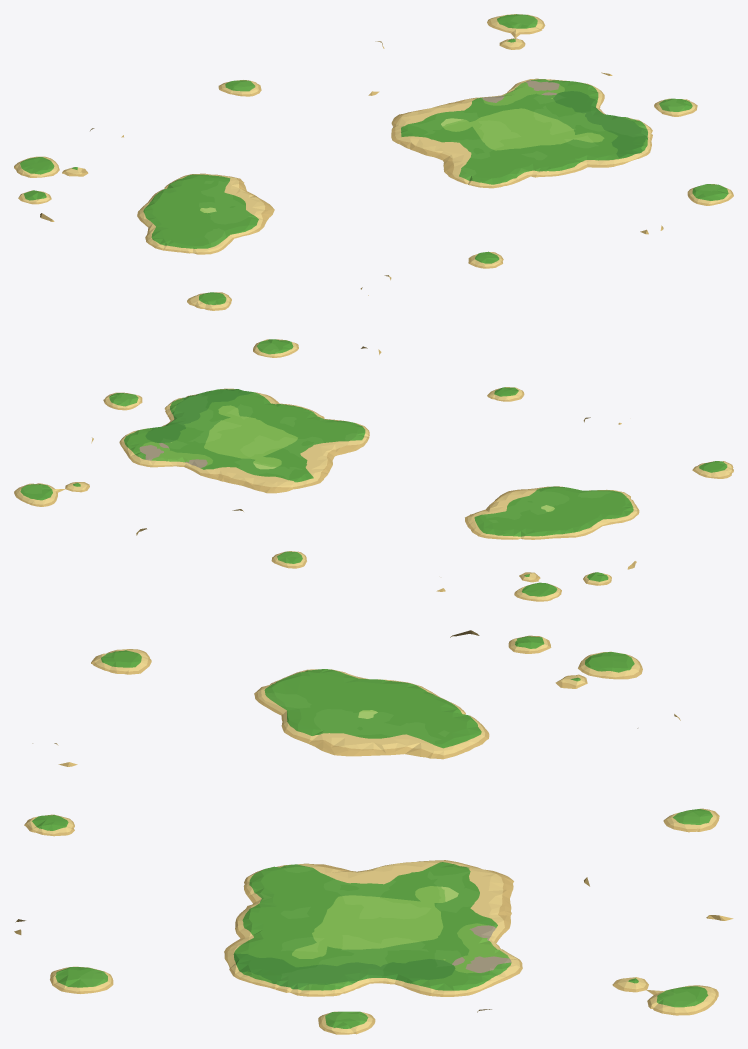
Rendered from Isl-tutorial1-Ground.fbx.
3 views of the same model, one above another, from view 1: azimuth 30°, elevation 25°; view 2: azimuth 150°, elevation 25°; view 3: azimuth 270°, elevation 25° (orthographic). The views are drawn at different scales.
Parts seen in each view (by area): view 1: Isl-tutorial1-Ground-c21, Isl-tutorial1-Ground-c22, Isl-tutorial1-Ground-c31, Isl-tutorial1-Ground-c01, Isl-tutorial1-Ground-c32, Isl-tutorial1-Ground-c02, Isl-tutorial1-Ground-c12, Isl-tutorial1-Ground-c11, Isl-tutorial1-Ground-c33, Isl-tutorial1-Ground-c30, Isl-tutorial1-Ground-c13, Isl-tutorial1-Ground-c10; view 2: Isl-tutorial1-Ground-c22, Isl-tutorial1-Ground-c21, Isl-tutorial1-Ground-c31, Isl-tutorial1-Ground-c32, Isl-tutorial1-Ground-c02, Isl-tutorial1-Ground-c01, Isl-tutorial1-Ground-c12, Isl-tutorial1-Ground-c11, Isl-tutorial1-Ground-c33, Isl-tutorial1-Ground-c13, Isl-tutorial1-Ground-c30, Isl-tutorial1-Ground-c10; view 3: Isl-tutorial1-Ground-c22, Isl-tutorial1-Ground-c21, Isl-tutorial1-Ground-c31, Isl-tutorial1-Ground-c32, Isl-tutorial1-Ground-c01, Isl-tutorial1-Ground-c02, Isl-tutorial1-Ground-c12, Isl-tutorial1-Ground-c11, Isl-tutorial1-Ground-c33, Isl-tutorial1-Ground-c30, Isl-tutorial1-Ground-c13, Isl-tutorial1-Ground-c10.
Part boxes in pixels (<box>): Isl-tutorial1-Ground-c21: <box>434,123,613,188</box>; Isl-tutorial1-Ground-c22: <box>368,90,556,157</box>; Isl-tutorial1-Ground-c31: <box>559,98,718,194</box>; Isl-tutorial1-Ground-c01: <box>145,209,243,310</box>; Isl-tutorial1-Ground-c32: <box>499,38,661,124</box>; Isl-tutorial1-Ground-c02: <box>14,156,210,227</box>; Isl-tutorial1-Ground-c12: <box>121,135,258,209</box>; Isl-tutorial1-Ground-c11: <box>207,197,274,235</box>; Isl-tutorial1-Ground-c33: <box>487,14,545,41</box>; Isl-tutorial1-Ground-c30: <box>687,184,733,205</box>; Isl-tutorial1-Ground-c13: <box>218,80,261,96</box>; Isl-tutorial1-Ground-c10: <box>360,251,503,295</box>; Isl-tutorial1-Ground-c22: <box>170,429,332,511</box>; Isl-tutorial1-Ground-c21: <box>214,394,369,460</box>; Isl-tutorial1-Ground-c31: <box>103,346,286,426</box>; Isl-tutorial1-Ground-c32: <box>65,405,219,492</box>; Isl-tutorial1-Ground-c02: <box>505,508,636,601</box>; Isl-tutorial1-Ground-c01: <box>546,461,733,526</box>; Isl-tutorial1-Ground-c12: <box>465,499,545,539</box>; Isl-tutorial1-Ground-c11: <box>496,486,573,509</box>; Isl-tutorial1-Ground-c33: <box>14,483,79,506</box>; Isl-tutorial1-Ground-c13: <box>271,551,306,568</box>; Isl-tutorial1-Ground-c30: <box>253,339,298,356</box>; Isl-tutorial1-Ground-c10: <box>487,387,621,424</box>; Isl-tutorial1-Ground-c22: <box>367,860,589,949</box>; Isl-tutorial1-Ground-c21: <box>224,863,373,951</box>; Isl-tutorial1-Ground-c31: <box>94,943,372,1034</box>; Isl-tutorial1-Ground-c32: <box>367,943,646,1027</box>; Isl-tutorial1-Ground-c01: <box>95,649,373,721</box>; Isl-tutorial1-Ground-c02: <box>367,630,642,720</box>; Isl-tutorial1-Ground-c12: <box>367,712,637,759</box>; Isl-tutorial1-Ground-c11: <box>281,713,373,756</box>; Isl-tutorial1-Ground-c33: <box>641,980,718,1015</box>; Isl-tutorial1-Ground-c30: <box>50,966,103,993</box>; Isl-tutorial1-Ground-c13: <box>663,808,719,832</box>; Isl-tutorial1-Ground-c10: <box>24,743,77,836</box>.
Bounding box in the file's own units: 78.23 × 0.4741 × 59.39.
